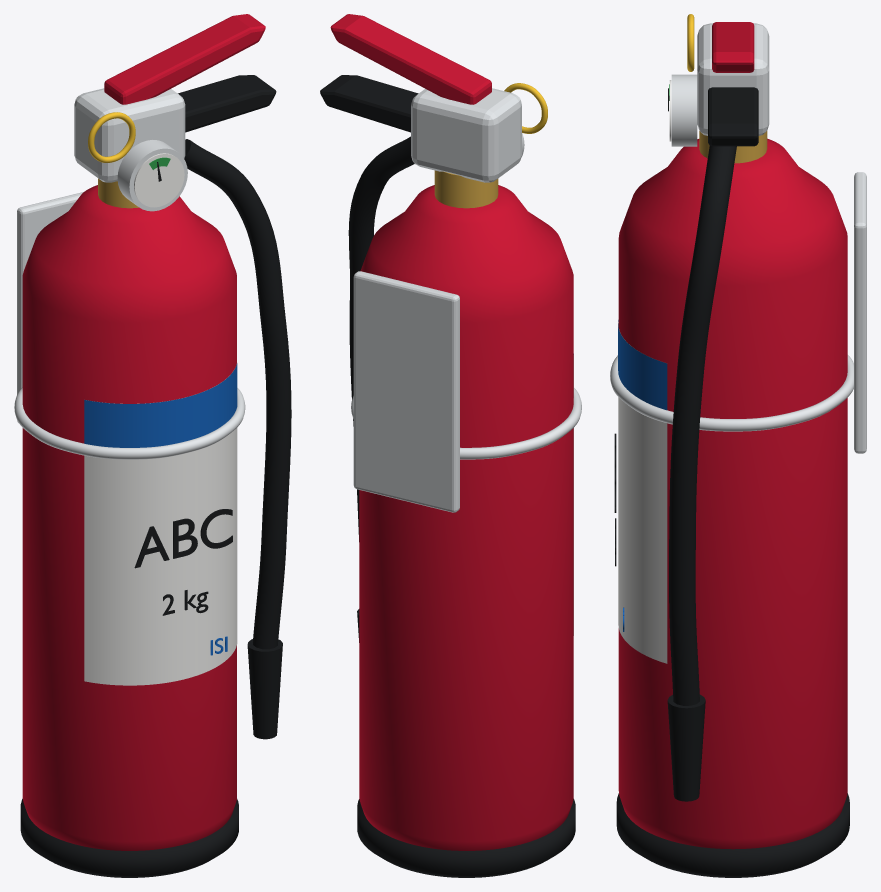
Rendered from item-93.glb.
3 renders of one model, left to right at view 1: azimuth 30°, elevation 25°; view 2: azimuth 150°, elevation 25°; view 3: azimuth 270°, elevation 25°, orthographic. The views are drawn at different scales.
Parts seen in each view (by area): view 1: body, label, hose, label_band, valve, foot, squeeze_lever, carry_handle, strap, nozzle, bracket_plate, gauge_face (+4 smaller); view 2: body, bracket_plate, valve, foot, squeeze_lever, hose, carry_handle, neck, strap, pin_ring; view 3: body, hose, label, foot, bracket_plate, valve, strap, nozzle, carry_handle, label_band, squeeze_lever, gauge_rim (+1 smaller).
Boxes of the visible parts, box(x1,y1,x2,y2) form: body: box(22, 185, 236, 850); label: box(84, 364, 237, 685); hose: box(184, 139, 291, 649); label_band: box(84, 363, 237, 447); valve: box(74, 88, 185, 182); foot: box(20, 799, 238, 877); squeeze_lever: box(104, 14, 265, 104); carry_handle: box(178, 75, 276, 132); strap: box(14, 387, 245, 459); nozzle: box(247, 639, 282, 739); bracket_plate: box(17, 192, 83, 422); gauge_face: box(134, 153, 184, 207); body: box(359, 185, 573, 850); bracket_plate: box(353, 271, 459, 512); valve: box(411, 88, 521, 182); foot: box(357, 799, 575, 877); squeeze_lever: box(330, 14, 491, 104); hose: box(348, 136, 414, 541); carry_handle: box(320, 75, 418, 132); neck: box(434, 170, 498, 208); strap: box(351, 388, 581, 459); pin_ring: box(504, 83, 547, 133); body: box(618, 138, 847, 849); hose: box(669, 145, 736, 705); label: box(618, 322, 667, 663); foot: box(616, 793, 849, 877); bracket_plate: box(854, 172, 866, 453); valve: box(697, 23, 769, 135); strap: box(610, 355, 853, 431); nozzle: box(667, 694, 705, 801); carry_handle: box(708, 87, 758, 146); label_band: box(618, 320, 667, 410); squeeze_lever: box(712, 22, 754, 72); gauge_rim: box(671, 74, 697, 146).
Bounding box in the file's own units: 0.1378 × 0.437 × 0.1211.
